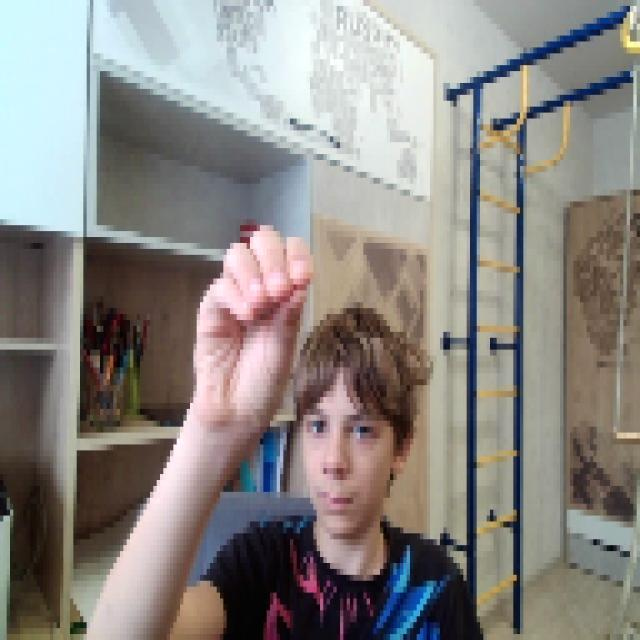left_click: (190, 219, 310, 427)
